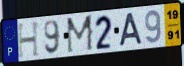2: (92, 13, 114, 53)
9: (43, 20, 62, 56), (144, 9, 162, 46)
A: (118, 12, 144, 48)
H: (16, 20, 41, 60)
M: (65, 14, 95, 56)
